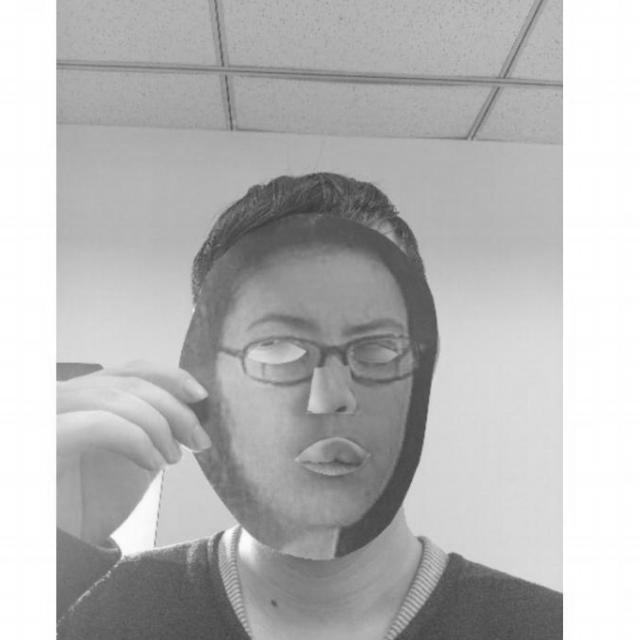fake: (172, 210, 444, 565)
